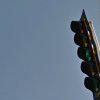Traffic light: (59, 7, 100, 100)
